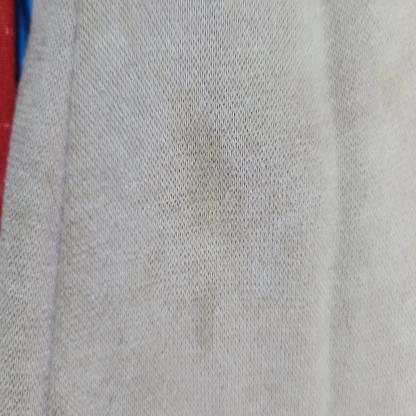spot: (143, 66, 266, 355)
